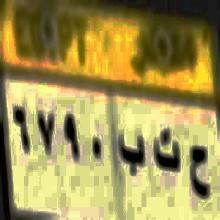0: (90, 126, 105, 173)
6: (10, 95, 32, 174)
7: (35, 104, 54, 170)
7aa: (188, 136, 212, 205)
9: (62, 106, 81, 176)
baa: (118, 120, 144, 184)
taa: (150, 118, 182, 182)
